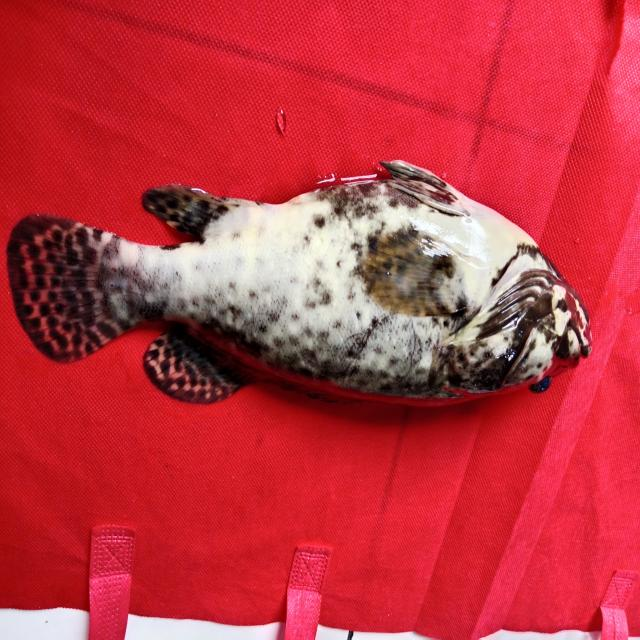ikan: (9, 141, 605, 429)
